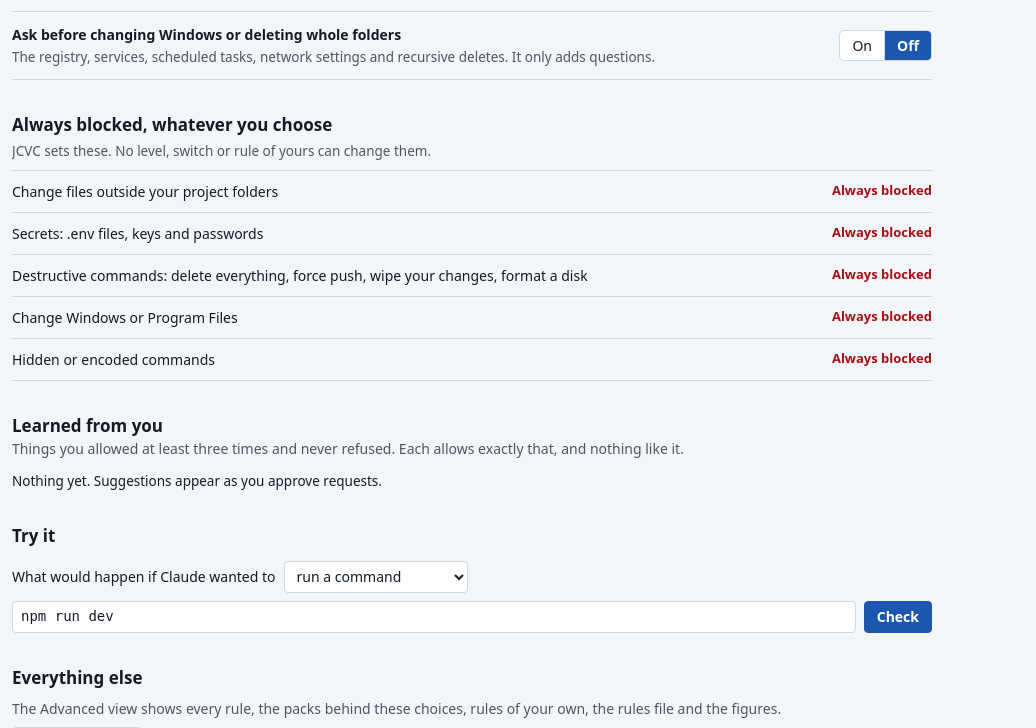
Scenario: the plain Policy page › checks a file from its own project folder, so code, tests and docs rules apply
(page scrolled)
Select "create or change a file" in the dropdown named "What Claude wants to do": (376, 577) [284,561,468,593]
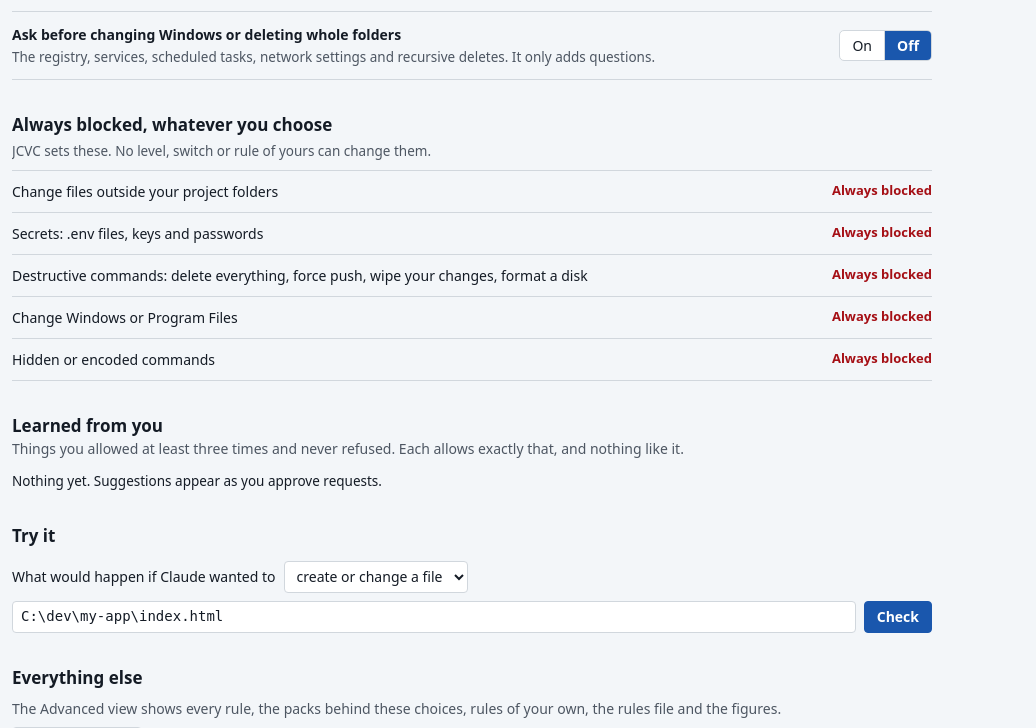
Replace the text in the field named "The file" with "C:\\dev\\shop\\src\\App.tsx": (434, 617) [12,601,856,633]
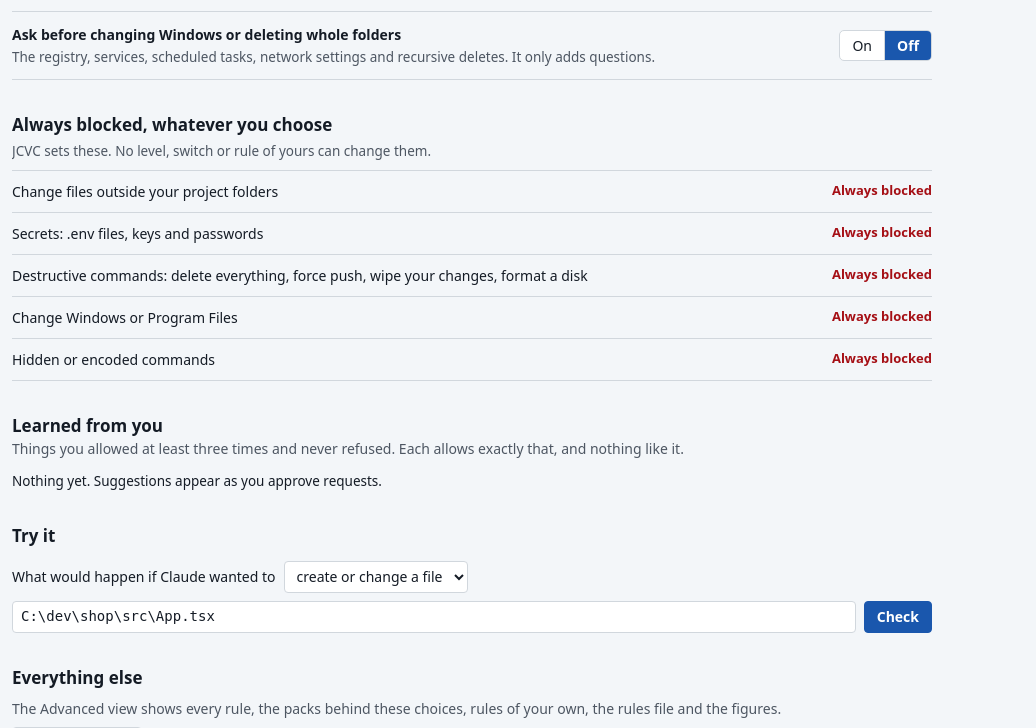
Click the button "Check": (898, 617) [864,601,932,633]
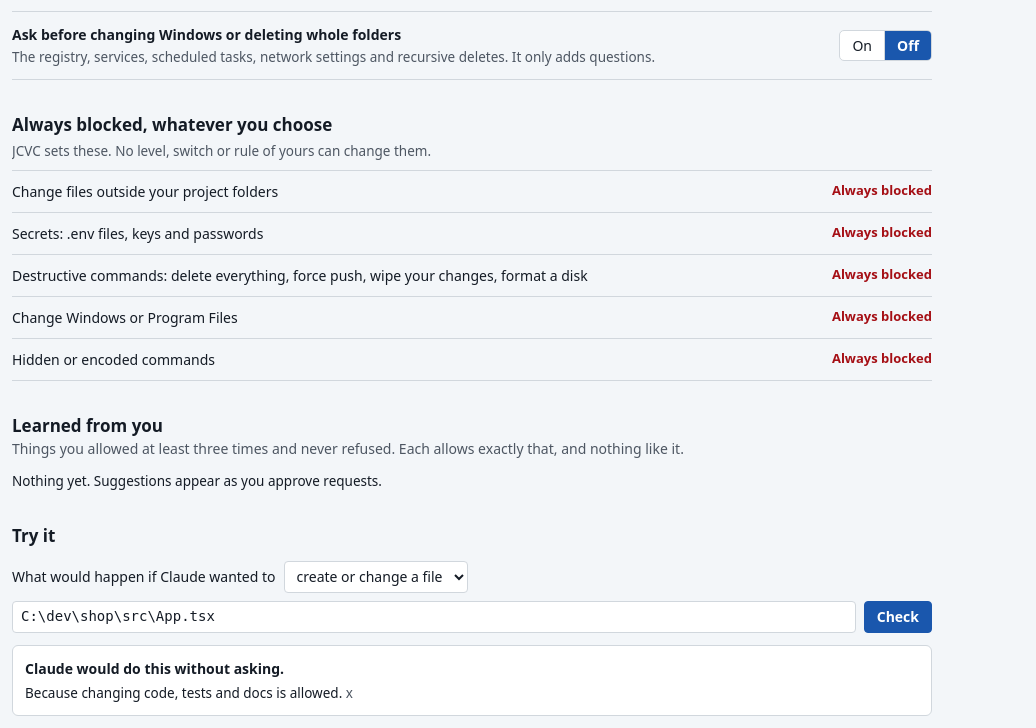
Now the text "Claude would do this without asking." is shown, box [25,659,284,678]
